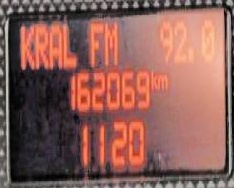-: (187, 44, 194, 62)
0: (127, 119, 143, 165), (200, 16, 214, 61), (106, 70, 120, 110)
1: (81, 123, 88, 164), (98, 123, 104, 164), (70, 74, 76, 110)
2: (109, 118, 126, 166), (172, 18, 187, 62), (91, 70, 104, 110)
6: (121, 68, 135, 110), (76, 71, 90, 110)
9: (158, 19, 172, 62), (135, 68, 149, 108)
X: (103, 19, 118, 65), (61, 22, 76, 68), (47, 22, 62, 68), (20, 24, 35, 68), (89, 21, 103, 67), (34, 24, 48, 67), (156, 73, 168, 91), (150, 69, 156, 89)
